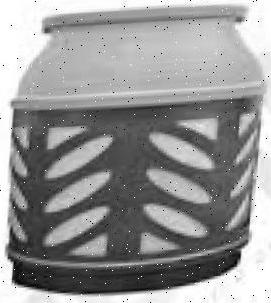cylinder: (1, 0, 271, 303)
